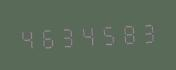eight: (117, 18, 136, 47)
five: (97, 19, 116, 48)
four: (17, 23, 36, 52), (77, 20, 96, 49)
six: (37, 22, 56, 51)
three: (57, 21, 76, 50), (137, 17, 156, 46)
